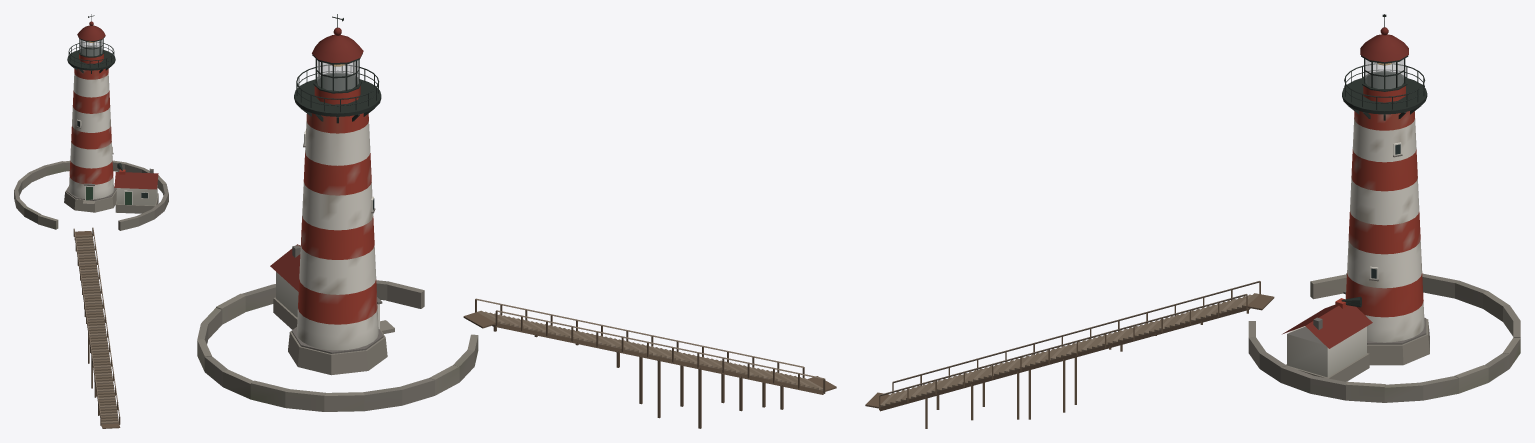
The model's file is lighthouse.glb.
The picture shows the model from 3 angles, left to right: view 1: azimuth 30°, elevation 25°; view 2: azimuth 150°, elevation 25°; view 3: azimuth 270°, elevation 25°; orthographic projection. The views are drawn at different scales.
Visible parts, largest first — view 1: lighthouse, walk_lighthouse_stairs, lighthouse_rails_v2, lighthouse_structure_v3; view 2: lighthouse, walk_lighthouse_stairs, lighthouse_structure_v3, lighthouse_rails_v2; view 3: lighthouse, walk_lighthouse_stairs, lighthouse_structure_v3, lighthouse_rails_v2.
Part boxes in pixels (bbox=[...]): lighthouse: bbox=[14, 14, 168, 230]; walk_lighthouse_stairs: bbox=[75, 231, 120, 428]; lighthouse_rails_v2: bbox=[73, 227, 120, 425]; lighthouse_structure_v3: bbox=[74, 236, 116, 426]; lighthouse: bbox=[197, 14, 478, 411]; walk_lighthouse_stairs: bbox=[463, 310, 836, 391]; lighthouse_structure_v3: bbox=[492, 323, 823, 428]; lighthouse_rails_v2: bbox=[475, 298, 825, 393]; lighthouse: bbox=[1248, 14, 1520, 402]; walk_lighthouse_stairs: bbox=[865, 293, 1274, 408]; lighthouse_structure_v3: bbox=[880, 306, 1250, 428]; lighthouse_rails_v2: bbox=[879, 281, 1260, 410].
Size of the model in its own units: 31.06 by 42.54 by 49.97.
